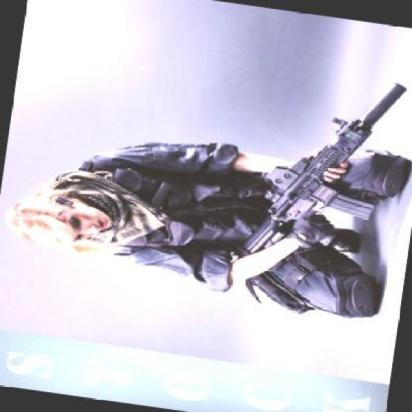Gun: (232, 63, 410, 278)
